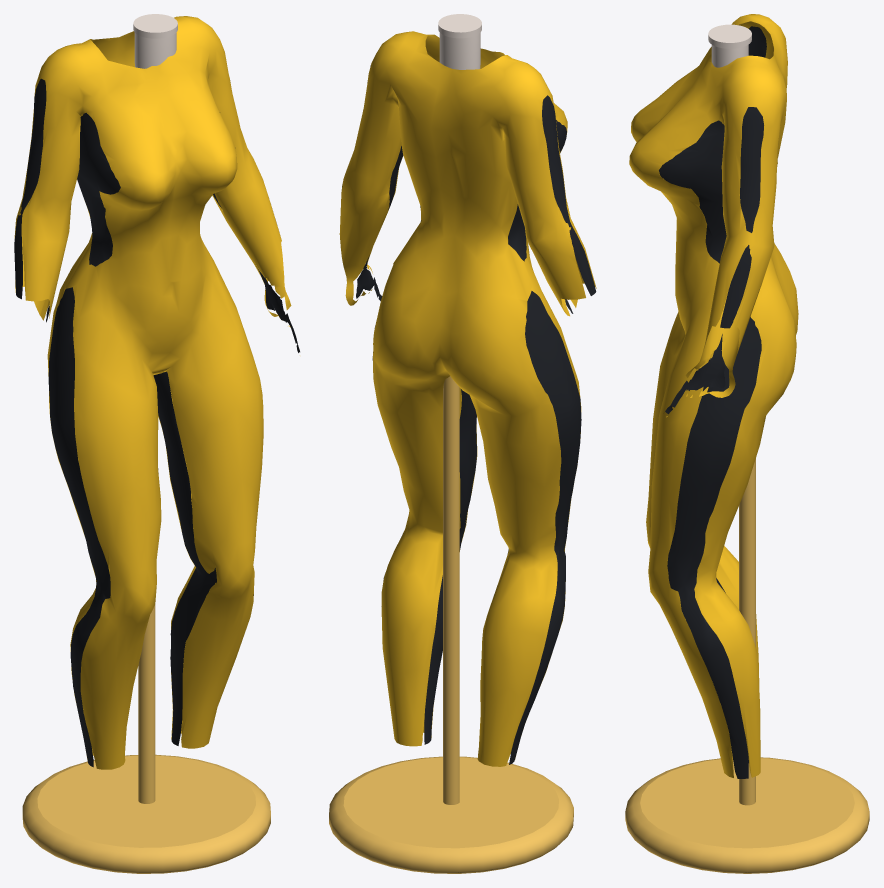
File: rain.suit.action-yellow.glb
3 views of the same model, side by side, from view 1: azimuth 30°, elevation 25°; view 2: azimuth 150°, elevation 25°; view 3: azimuth 270°, elevation 25° (orthographic). The views are drawn at different scales.
Parts seen in each view (by area): view 1: Foundation.Action.ContinuousSuit, stand_base, Foundation.Action.OuterSeamStripes, stand_stem, stand_torso, stand_neck_cap; view 2: Foundation.Action.ContinuousSuit, stand_base, Foundation.Action.OuterSeamStripes, stand_stem, stand_torso, stand_neck_cap; view 3: Foundation.Action.ContinuousSuit, Foundation.Action.OuterSeamStripes, stand_base, stand_stem, stand_neck_cap, stand_torso.
Boxes of the visible parts, x1,y1,x2,y2 form: Foundation.Action.ContinuousSuit: [14, 16, 291, 769]; stand_base: [22, 754, 270, 873]; Foundation.Action.OuterSeamStripes: [14, 78, 299, 767]; stand_stem: [138, 605, 155, 803]; stand_torso: [134, 33, 176, 68]; stand_neck_cap: [133, 14, 177, 38]; Foundation.Action.ContinuousSuit: [339, 31, 596, 766]; stand_base: [329, 756, 573, 873]; Foundation.Action.OuterSeamStripes: [342, 65, 596, 764]; stand_stem: [443, 376, 459, 804]; stand_torso: [439, 32, 480, 69]; stand_neck_cap: [438, 14, 481, 38]; Foundation.Action.ContinuousSuit: [629, 14, 798, 777]; Foundation.Action.OuterSeamStripes: [659, 26, 766, 778]; stand_base: [625, 757, 869, 873]; stand_stem: [739, 458, 755, 805]; stand_neck_cap: [708, 24, 751, 48]; stand_torso: [711, 45, 748, 67].
Bounding box in the file's own units: 0.2504 × 0.75 × 0.2091.
